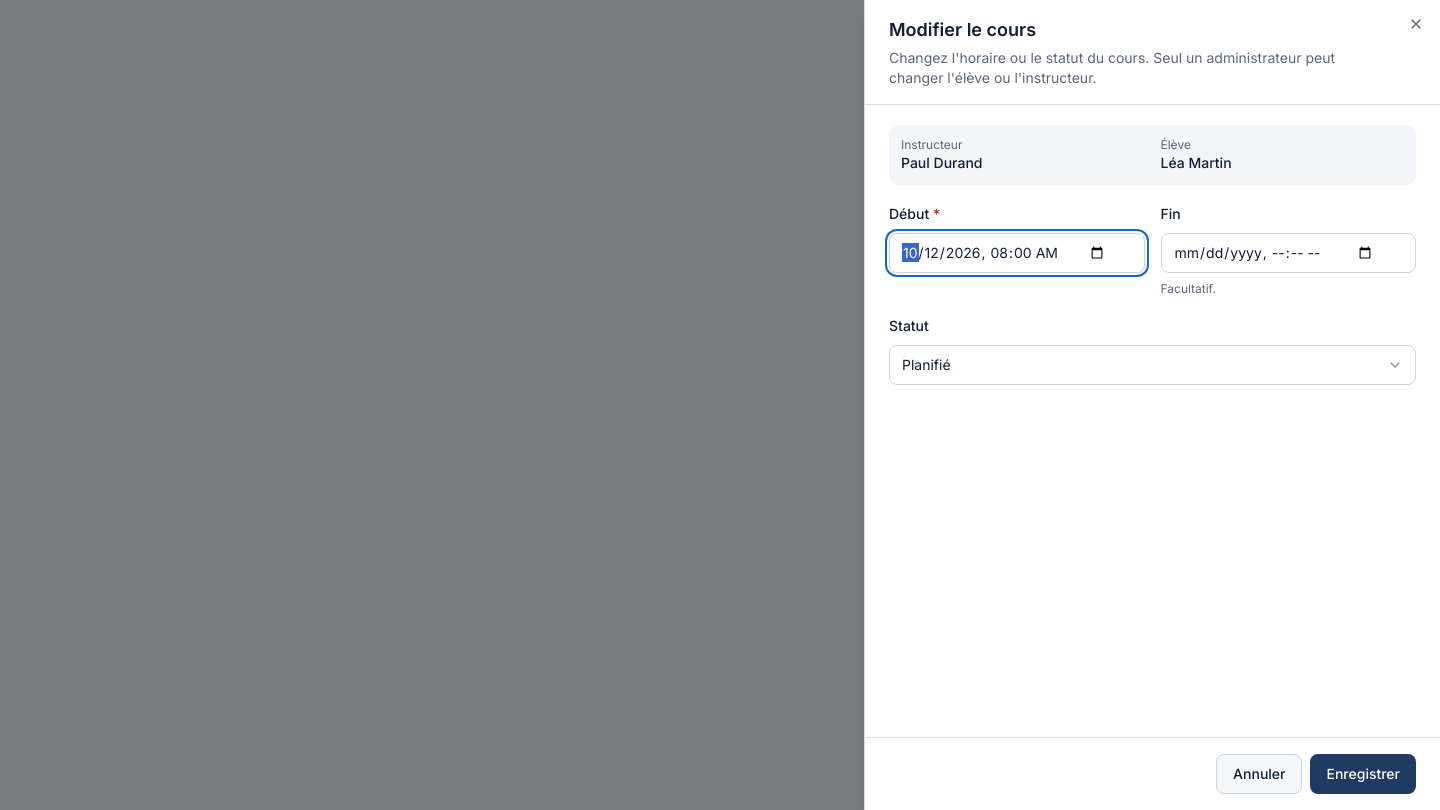
Scenario: CourseFormDialog › dit qu'un cours annulé ici garde sa réservation d'avion, et où l'annuler avec
The width and height of the screenshot is (1440, 810).
Expected: the heading "Modifier le cours" is shown, [889,19,1036,40]
Expected: the text "reste en place" is not shown
Click the dropdown named "Statut".
click(926, 364)  # box [889,345,1416,385]
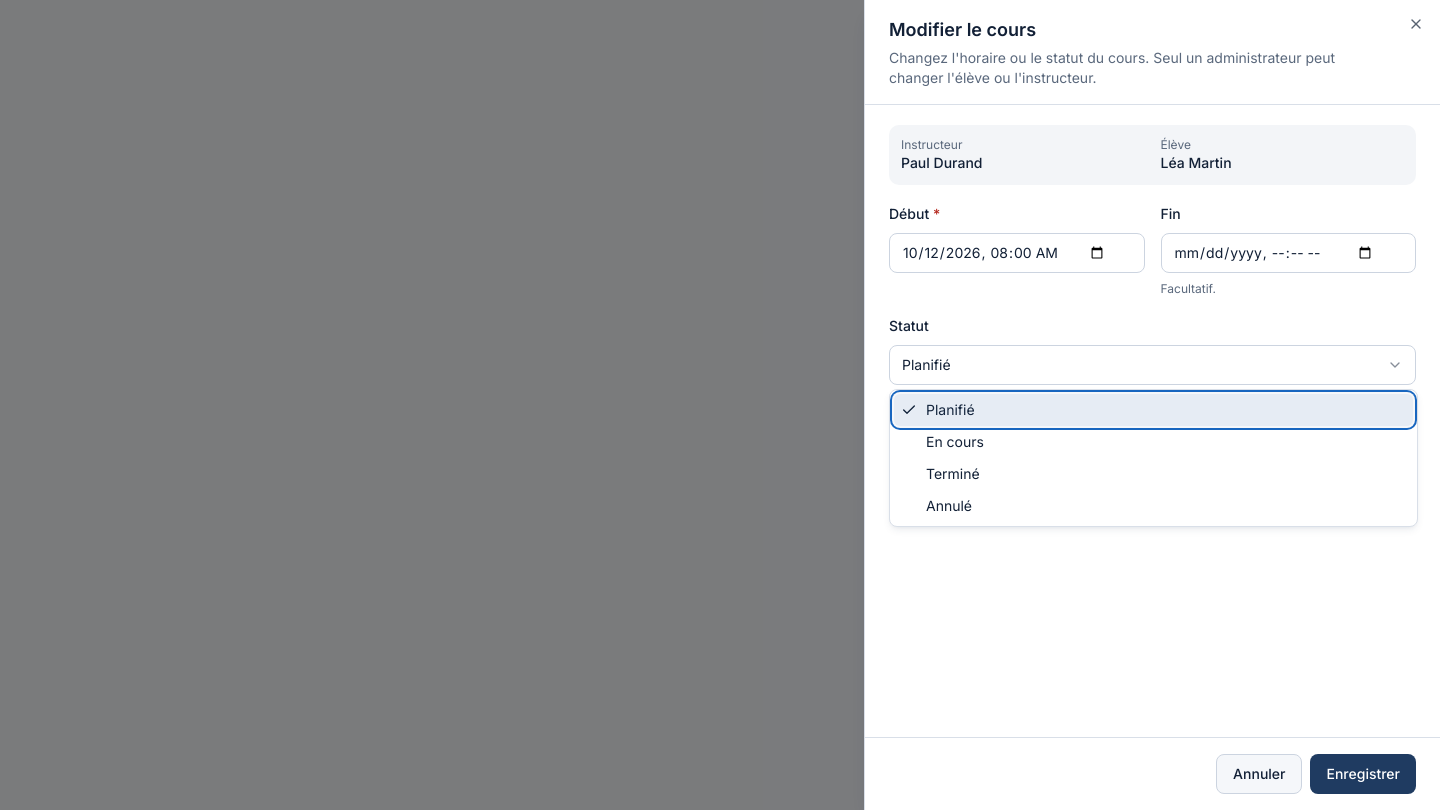
Click the option "Annulé".
click(949, 506)  # box [926,497,972,514]
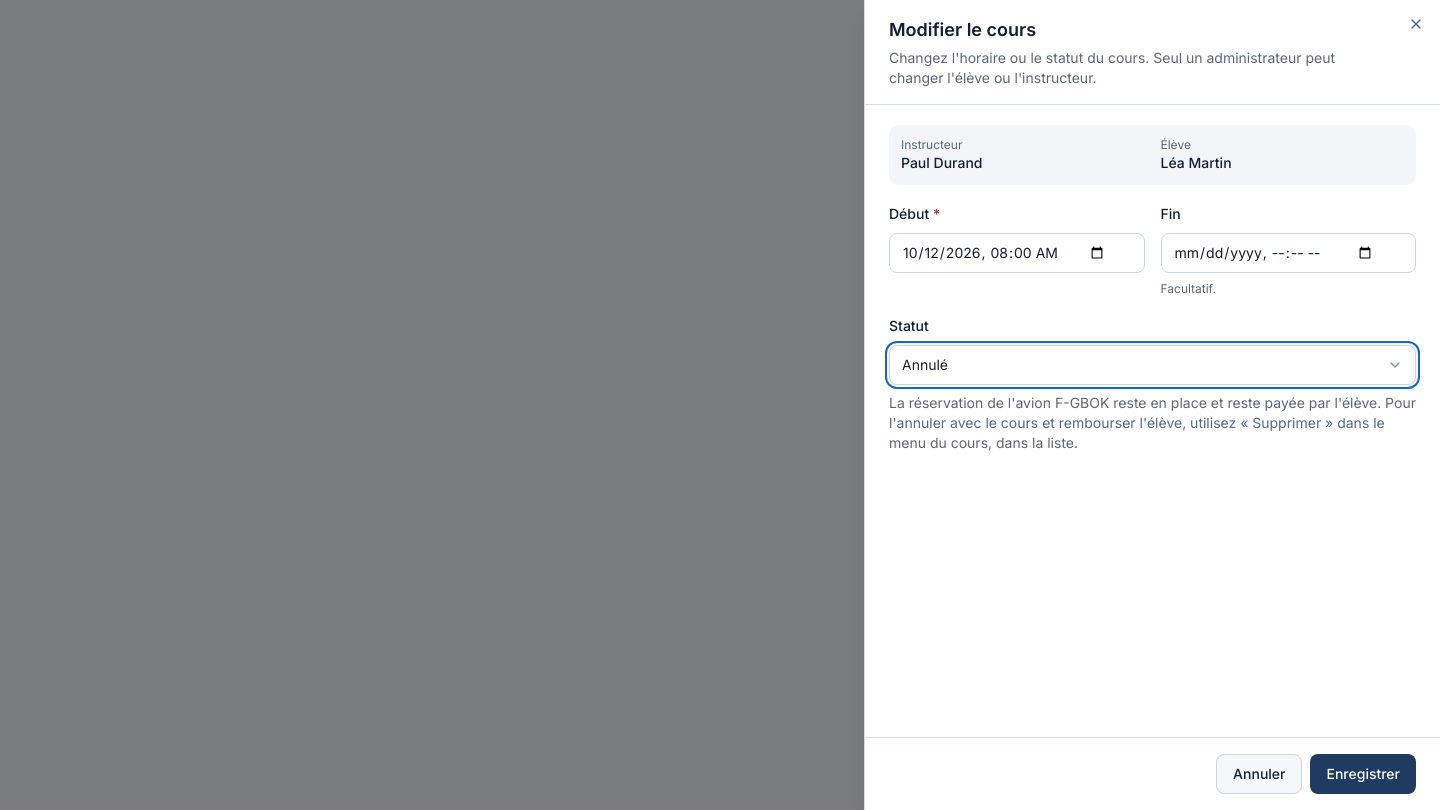
Result: the text "La réservation de l'avion F-GBOK reste en place et reste payée par l'élève. Pour l'annuler avec le cours et rembourser l'élève, utilisez « Supprimer » dans le m" is shown at [889,394,1416,451]
